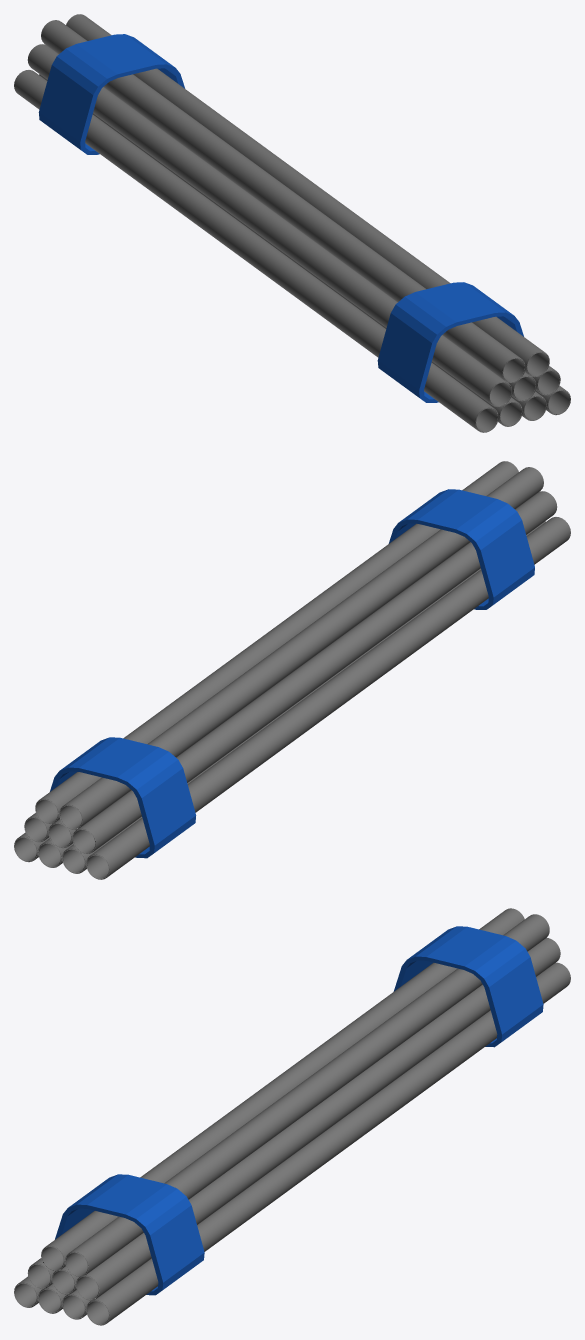
The model's file is ConstructionPipes.fbx.
The picture shows the model from 3 angles, top to bottom: view 1: azimuth 30°, elevation 25°; view 2: azimuth 150°, elevation 25°; view 3: azimuth 330°, elevation 25°; orthographic projection.
Visible parts, largest first — view 1: Cylinder.020, Cylinder.018, Cylinder.019, Plane.002, Plane.001; view 2: Cylinder.020, Cylinder.018, Cylinder.019, Plane.001, Plane.002; view 3: Cylinder.020, Cylinder.018, Cylinder.019, Plane.001, Plane.002.
Part boxes in pixels (x1,y1,x2,y2): Cylinder.020: (41,14,549,382); Cylinder.018: (14,70,570,432); Cylinder.019: (27,44,560,406); Plane.002: (38,34,185,154); Plane.001: (377,282,523,402); Cylinder.020: (35,461,543,829); Cylinder.018: (14,517,570,879); Cylinder.019: (24,491,557,853); Plane.001: (388,489,534,609); Plane.002: (50,737,196,858); Cylinder.020: (41,908,549,1276); Cylinder.018: (14,962,570,1325); Cylinder.019: (27,938,560,1300); Plane.001: (55,1174,204,1295); Plane.002: (393,926,543,1047).
Size of the model in its own units: 94.54 by 60.33 by 665.
